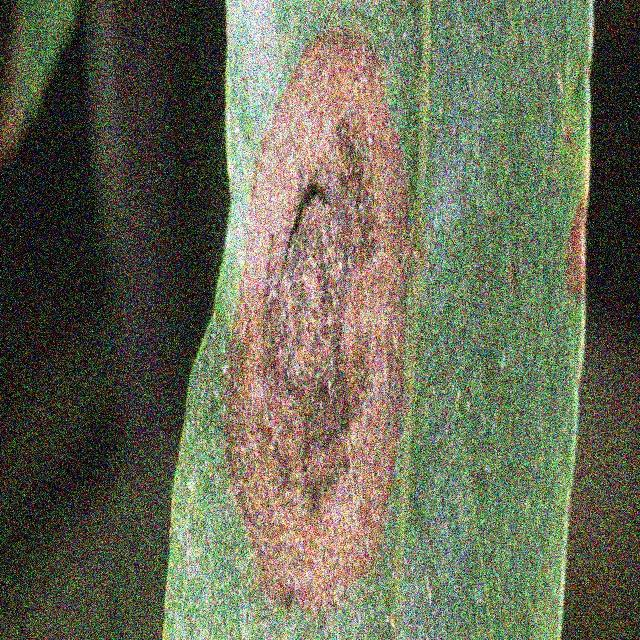leaf_spot: (174, 4, 600, 640)
